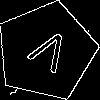V: (21, 26, 75, 83)
